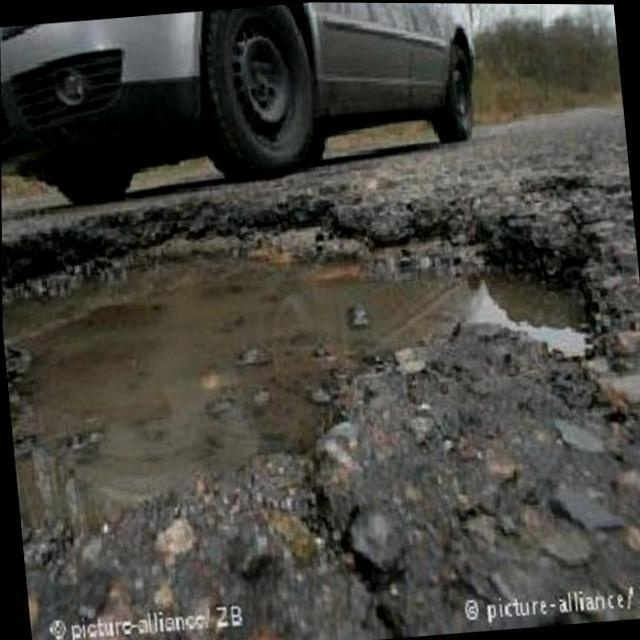pothole: (9, 202, 624, 554)
